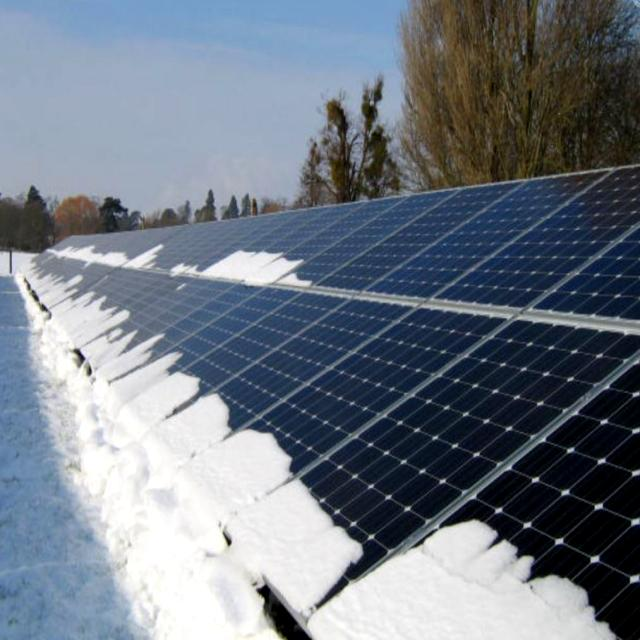panel: (147, 409, 286, 611), (451, 512, 639, 640), (52, 308, 158, 426), (308, 477, 394, 592), (220, 240, 322, 324), (92, 289, 153, 377), (230, 420, 298, 494), (19, 258, 87, 304), (195, 376, 240, 442), (106, 236, 165, 282), (154, 344, 200, 401), (58, 235, 115, 278), (164, 252, 213, 302)
